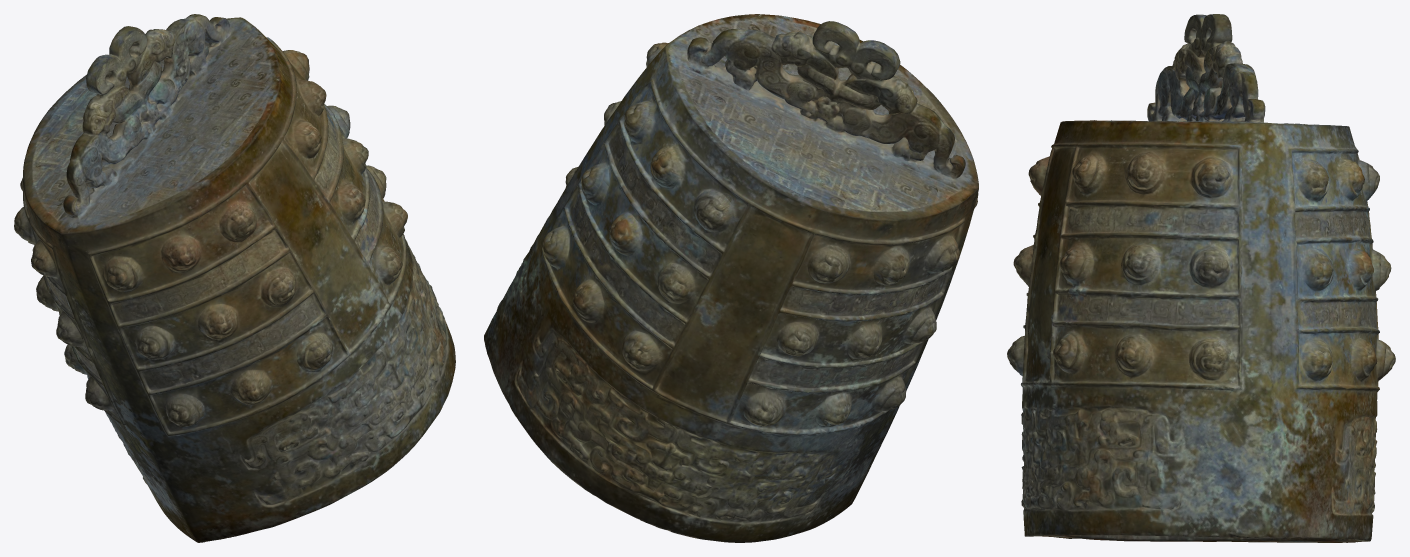
File: user-original-chime-low.glb
The picture shows the model from 3 angles, left to right: view 1: azimuth 30°, elevation 25°; view 2: azimuth 150°, elevation 25°; view 3: azimuth 270°, elevation 25°; orthographic projection. The views are drawn at different scales.
Visible parts, largest first — view 1: Original bronze bell; view 2: Original bronze bell; view 3: Original bronze bell.
Part boxes in pixels (x1=…): Original bronze bell: x1=14, y1=14, x2=455, y2=542; Original bronze bell: x1=484, y1=14, x2=978, y2=542; Original bronze bell: x1=1007, y1=14, x2=1395, y2=542.
Size of the model in its own units: 6.07 by 6.91 by 4.75.
1 material, 1 textured.
